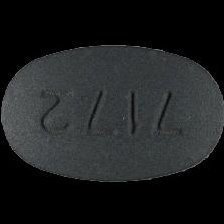63629-4057: (0, 0, 224, 224)
